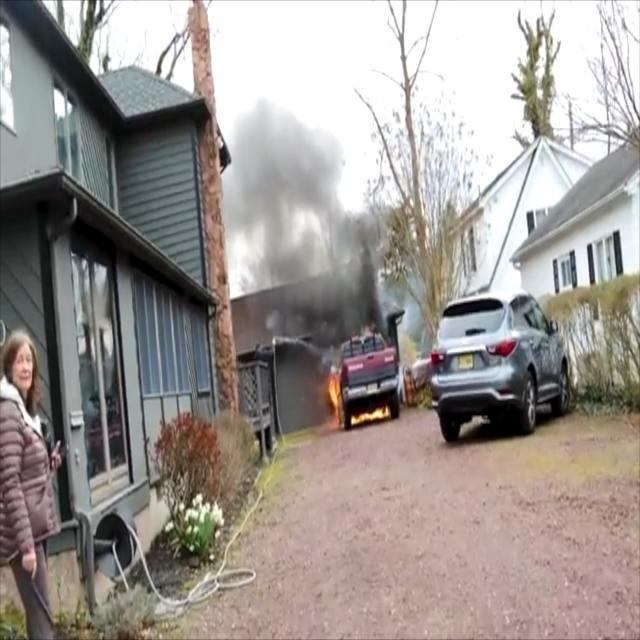fire: (322, 343, 345, 428), (344, 405, 396, 424)
